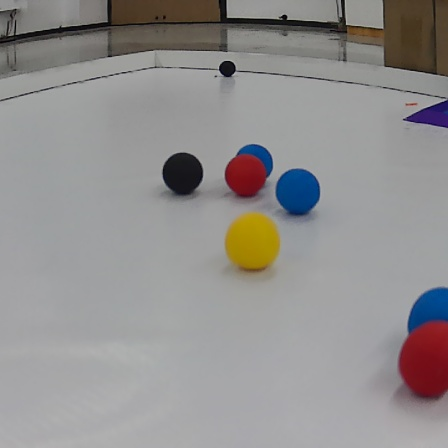black: (159, 148, 211, 198), (214, 57, 241, 83)
blue: (274, 167, 319, 215), (404, 286, 448, 333), (235, 136, 275, 176)
red: (398, 322, 448, 398), (220, 153, 268, 197)
yellow: (224, 211, 280, 272)
